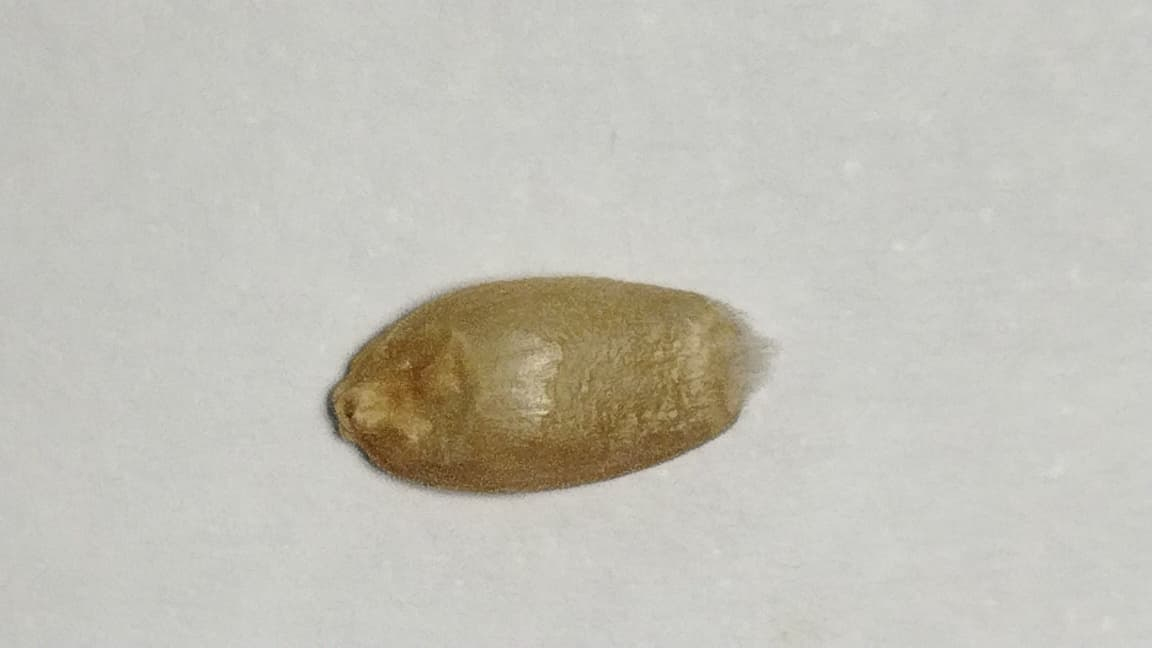healthy: (336, 276, 763, 490)
